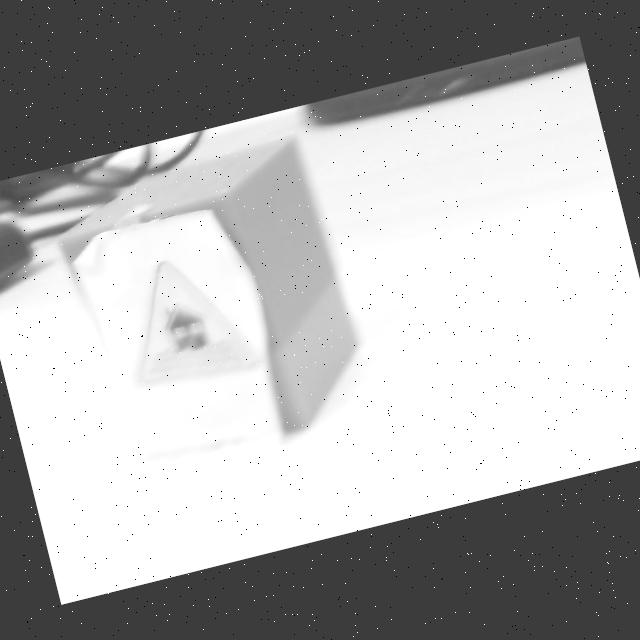Tsunami: (139, 261, 250, 383)
